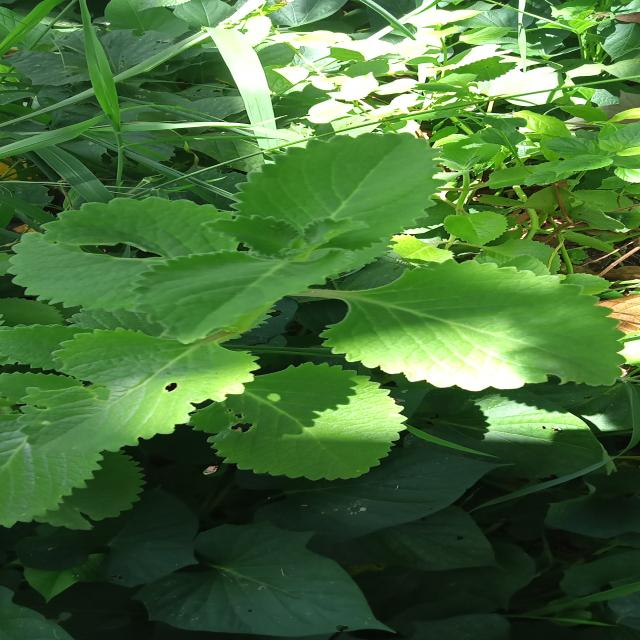Oregano: (18, 298, 281, 477), (308, 255, 640, 393), (216, 128, 442, 238)
